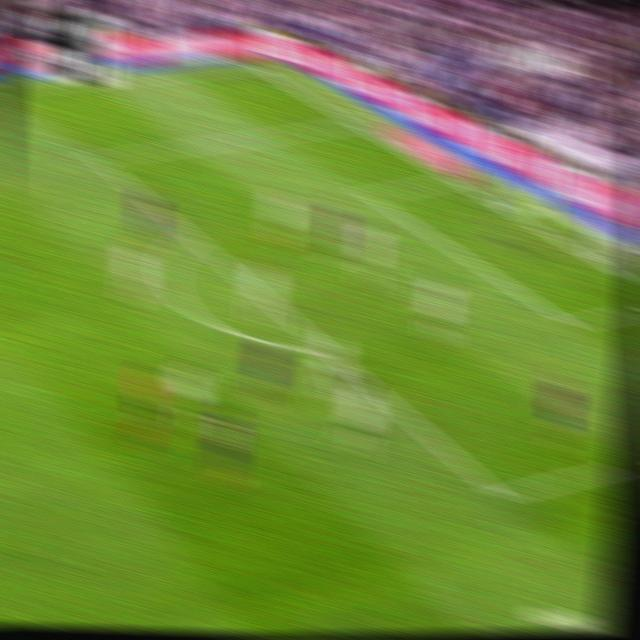bigarea_bottom_inner: (486, 477, 517, 513)
bigarea_top_inner: (85, 144, 111, 172)
bigarea_top_outter: (343, 114, 365, 131)
bottom_arc_area_intersection: (314, 339, 336, 361)
corner: (243, 57, 268, 74)
smallarea_top_inner: (356, 182, 381, 206)
top_arc_area_intersection: (180, 223, 204, 248)
